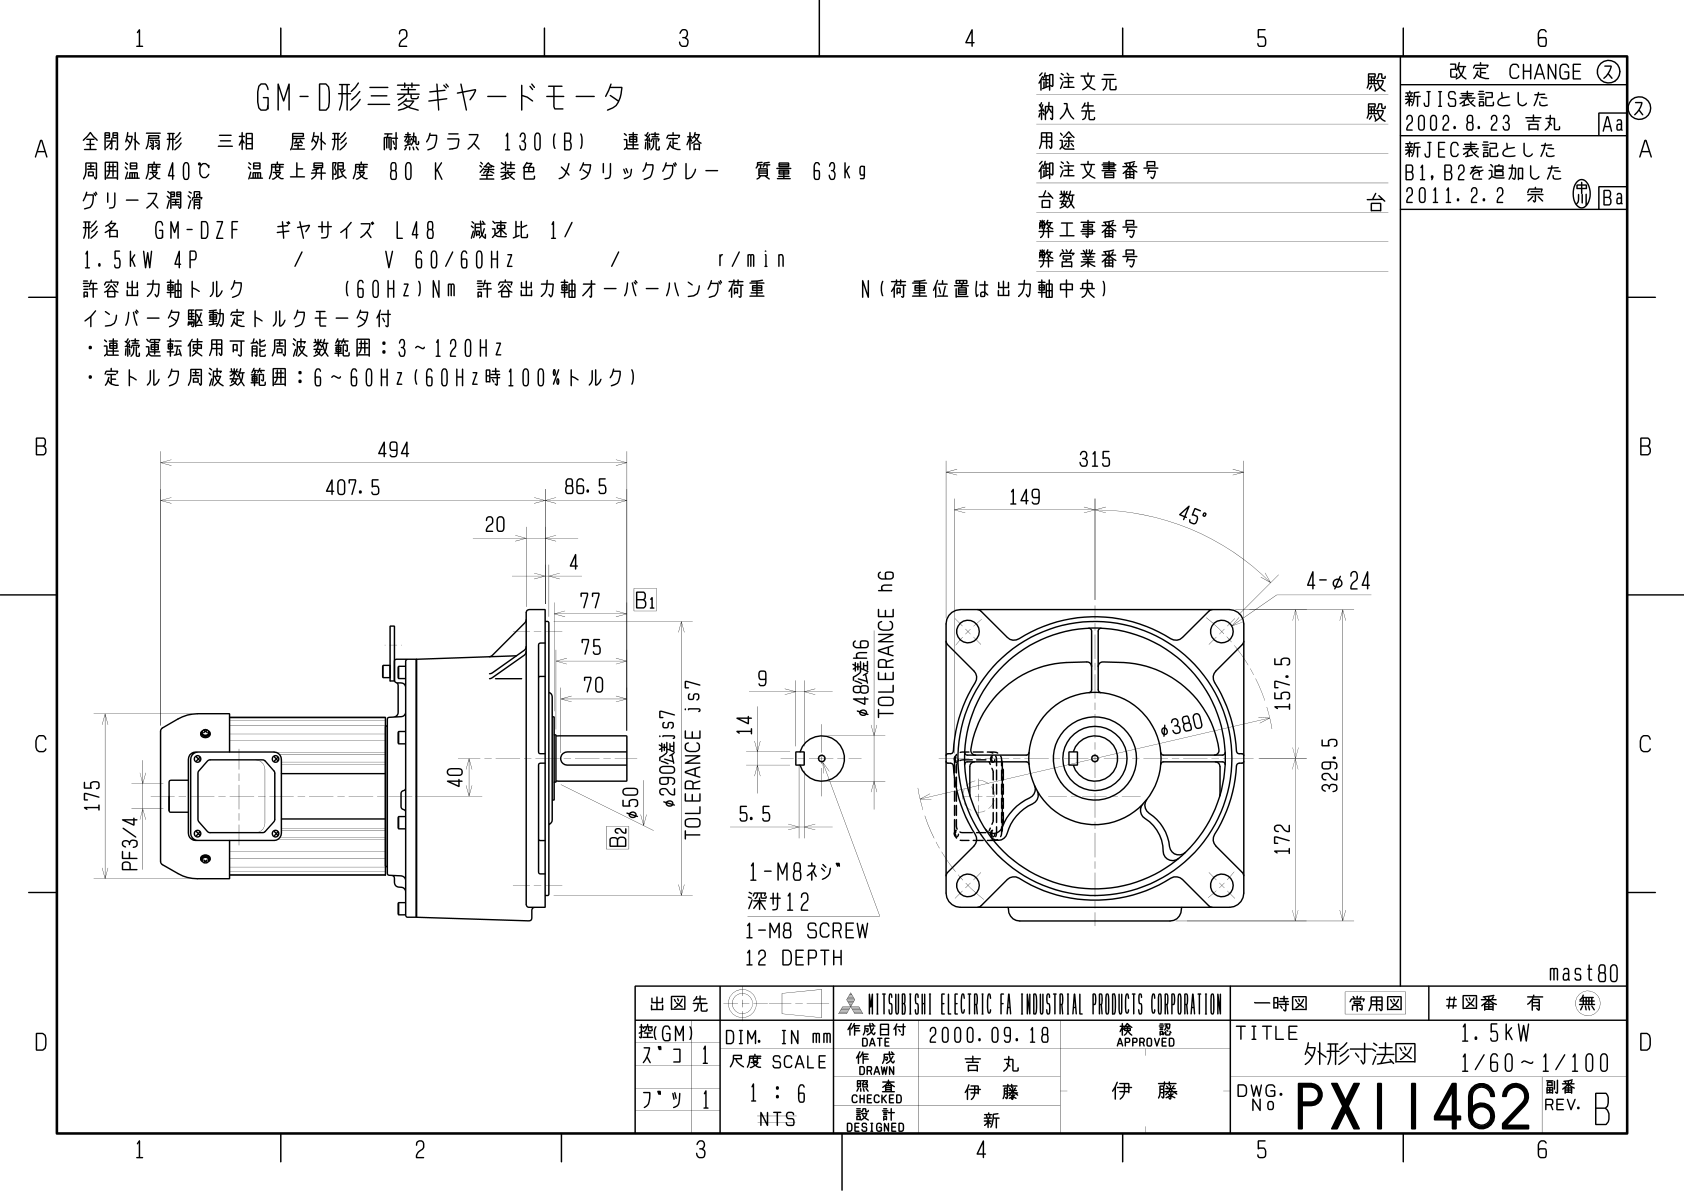GM_D_インバータ屋外_三相_フランジ: (18, 4, 1684, 1191)
